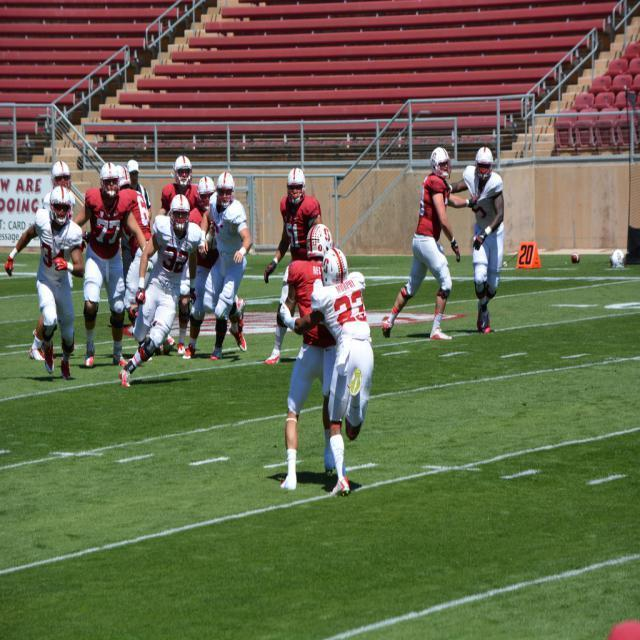ball: (608, 246, 625, 271), (572, 251, 579, 261)
